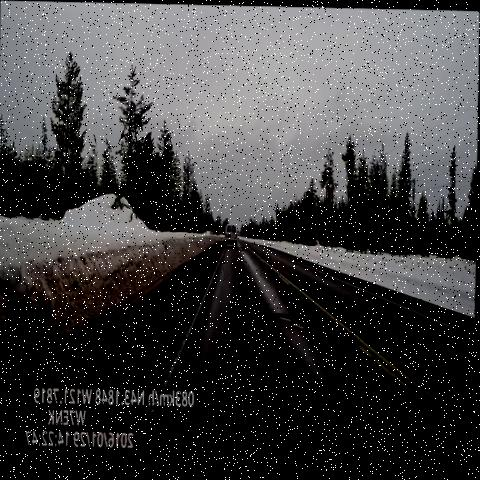pothole: (270, 300, 311, 343), (235, 244, 249, 257), (218, 254, 229, 267)
